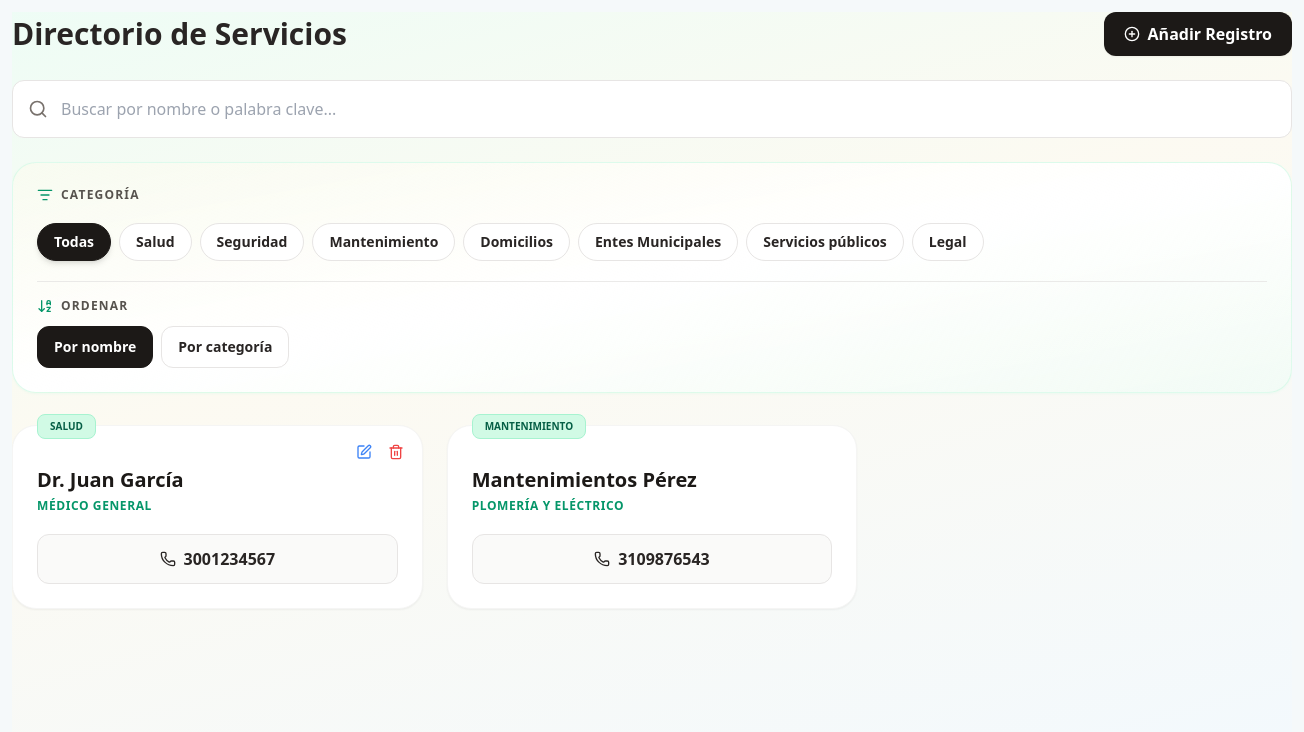
Scenario: DirectoriesView — búsqueda › muestra todos los resultados cuando se borra la búsqueda
The image size is (1304, 732).
Type "garcía" into the field with placeholder "Buscar por nombre o palabra clave...". click: point(652, 109)
box: [12,80,1292,138]
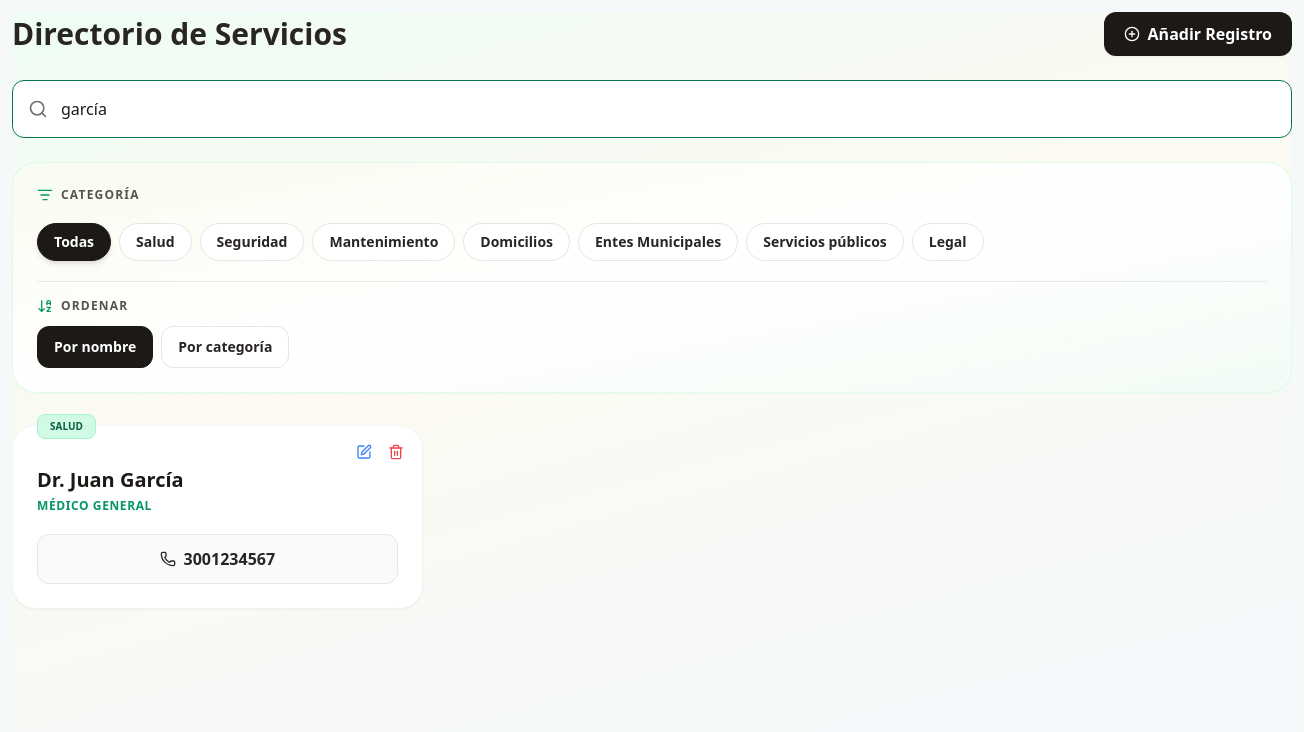
Clear the field with placeholder "Buscar por nombre o palabra clave...". click: point(652, 109)
box: [12,80,1292,138]
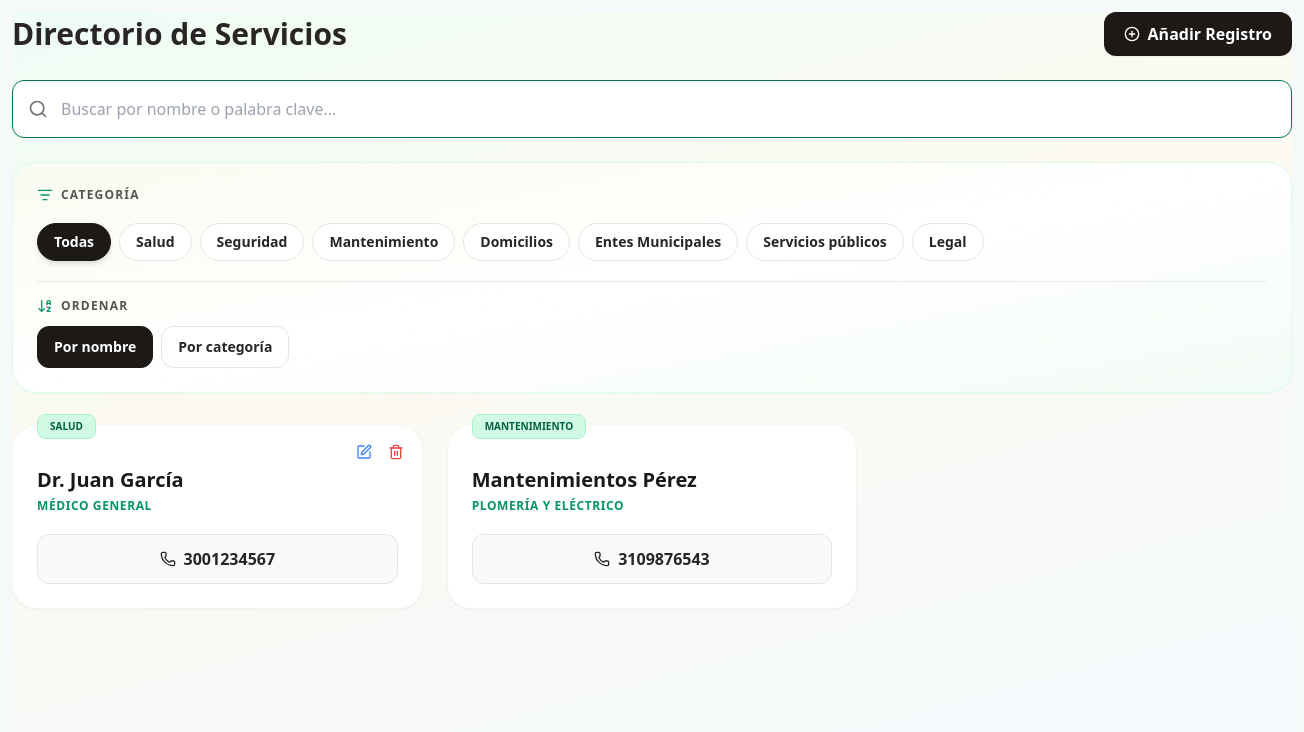
Expected: the heading "Dr. Juan García" is shown, [37,466,184,493]
Result: the heading "Mantenimientos Pérez" is shown at [472,466,697,493]
